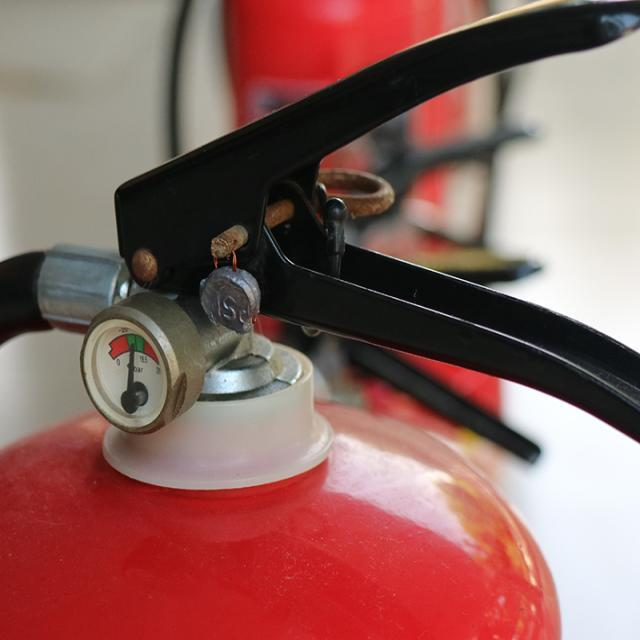pressure gauge: (84, 319, 167, 431)
